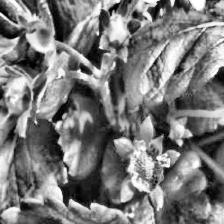Blossom Blight: (127, 143, 170, 192)
